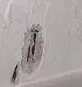Exposed reinforcement: (11, 63, 18, 81), (31, 33, 36, 57), (26, 45, 31, 63)
Spalling: (20, 23, 45, 76), (10, 62, 20, 86)
